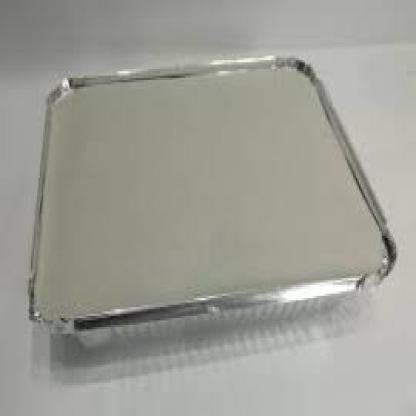METAL: (26, 53, 396, 362)
